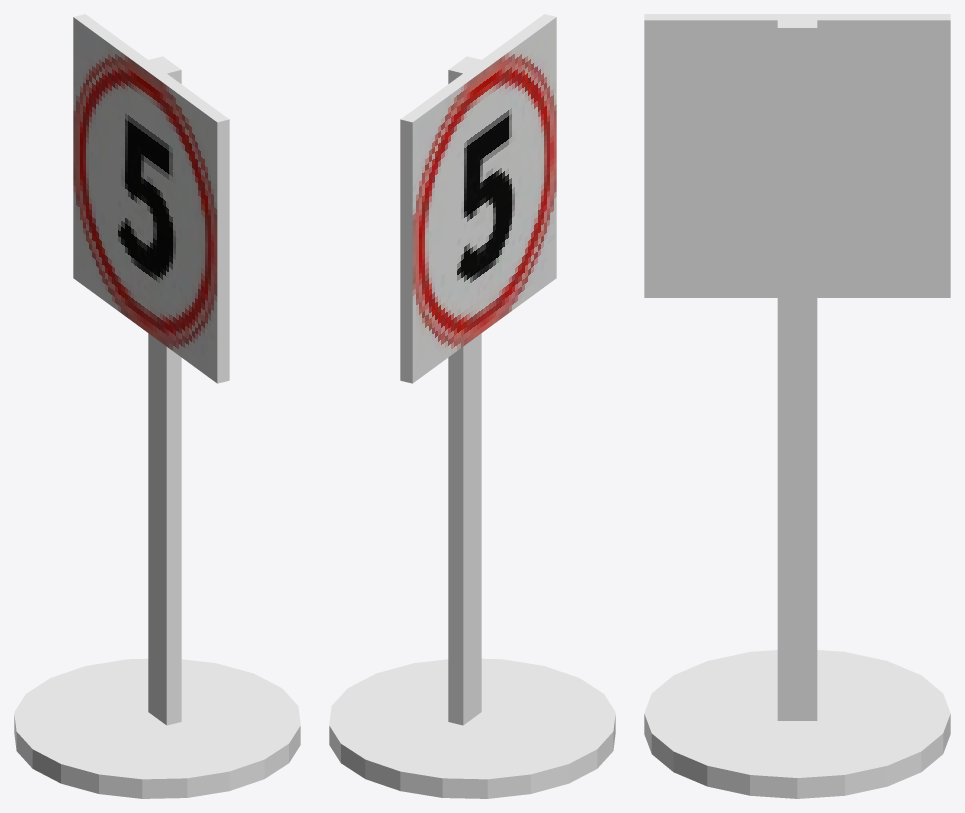
Rendered from SignFive.dae.
3 views of the same model, side by side, from view 1: azimuth 30°, elevation 25°; view 2: azimuth 150°, elevation 25°; view 3: azimuth 270°, elevation 25° (orthographic). The views are drawn at different scales.
Parts seen in each view (by area): view 1: SignFive; view 2: SignFive; view 3: SignFive.
Boxes of the visible parts, x1,y1,x2,y2 form: SignFive: [14, 14, 300, 798]; SignFive: [329, 14, 615, 798]; SignFive: [644, 14, 950, 798].
Bounding box in the file's own units: 0.07 × 0.07 × 0.18.
